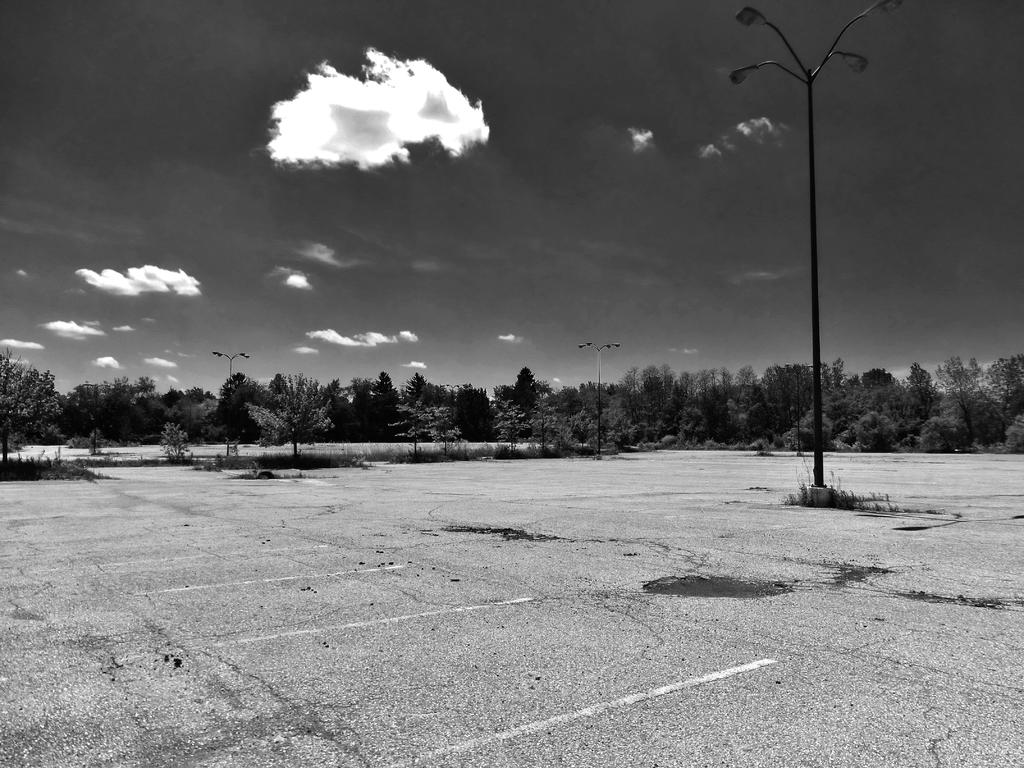Tree: (63, 351, 1023, 457), (0, 344, 58, 462)
